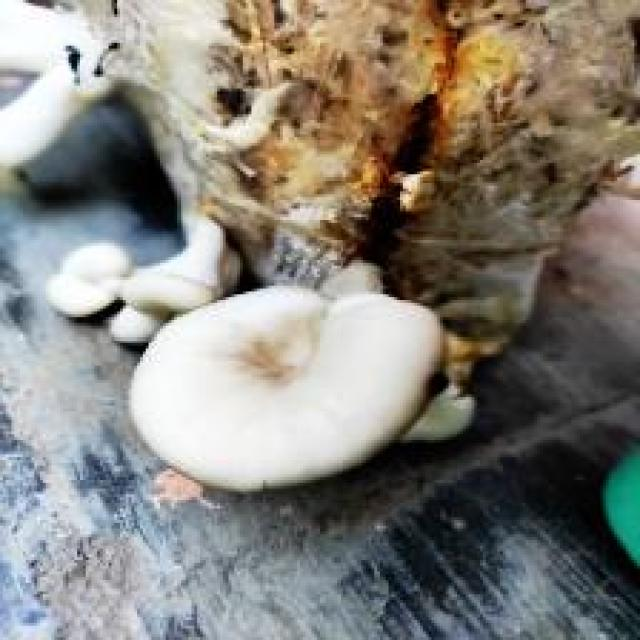chanterelle: (0, 0, 637, 491)
field-mushroom: (126, 280, 446, 491)
